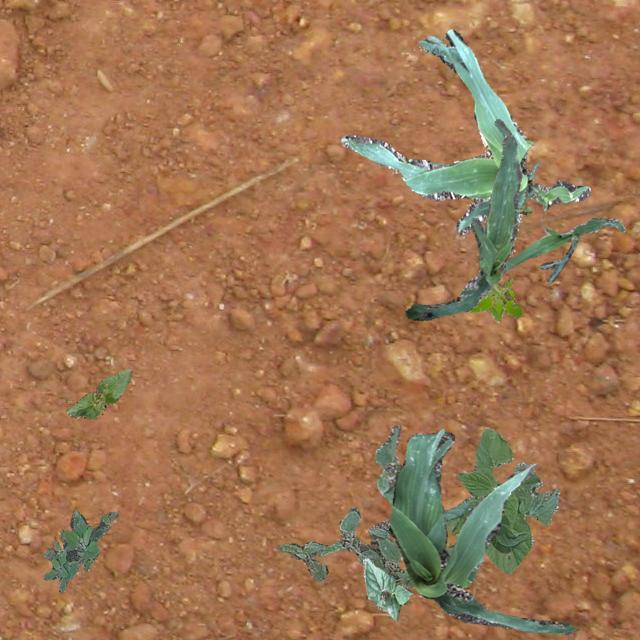crop: (341, 28, 588, 234), (388, 428, 576, 634), (404, 118, 520, 320), (442, 427, 558, 572), (502, 216, 624, 282), (66, 368, 130, 418), (362, 556, 412, 620), (374, 424, 400, 506)
weed: (276, 506, 414, 586), (42, 509, 118, 592), (468, 276, 522, 322), (515, 207, 531, 213)
